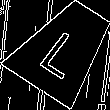L_NE: (35, 20, 93, 79)
